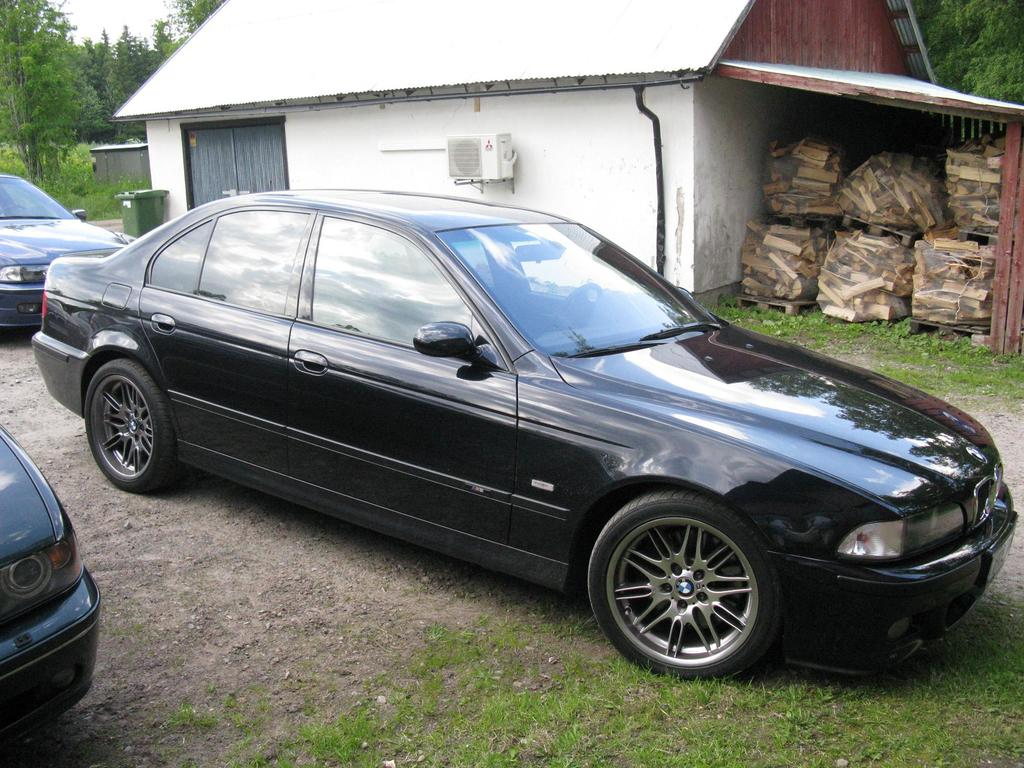cars: (27, 187, 1018, 679), (0, 422, 100, 755), (0, 171, 136, 342)
